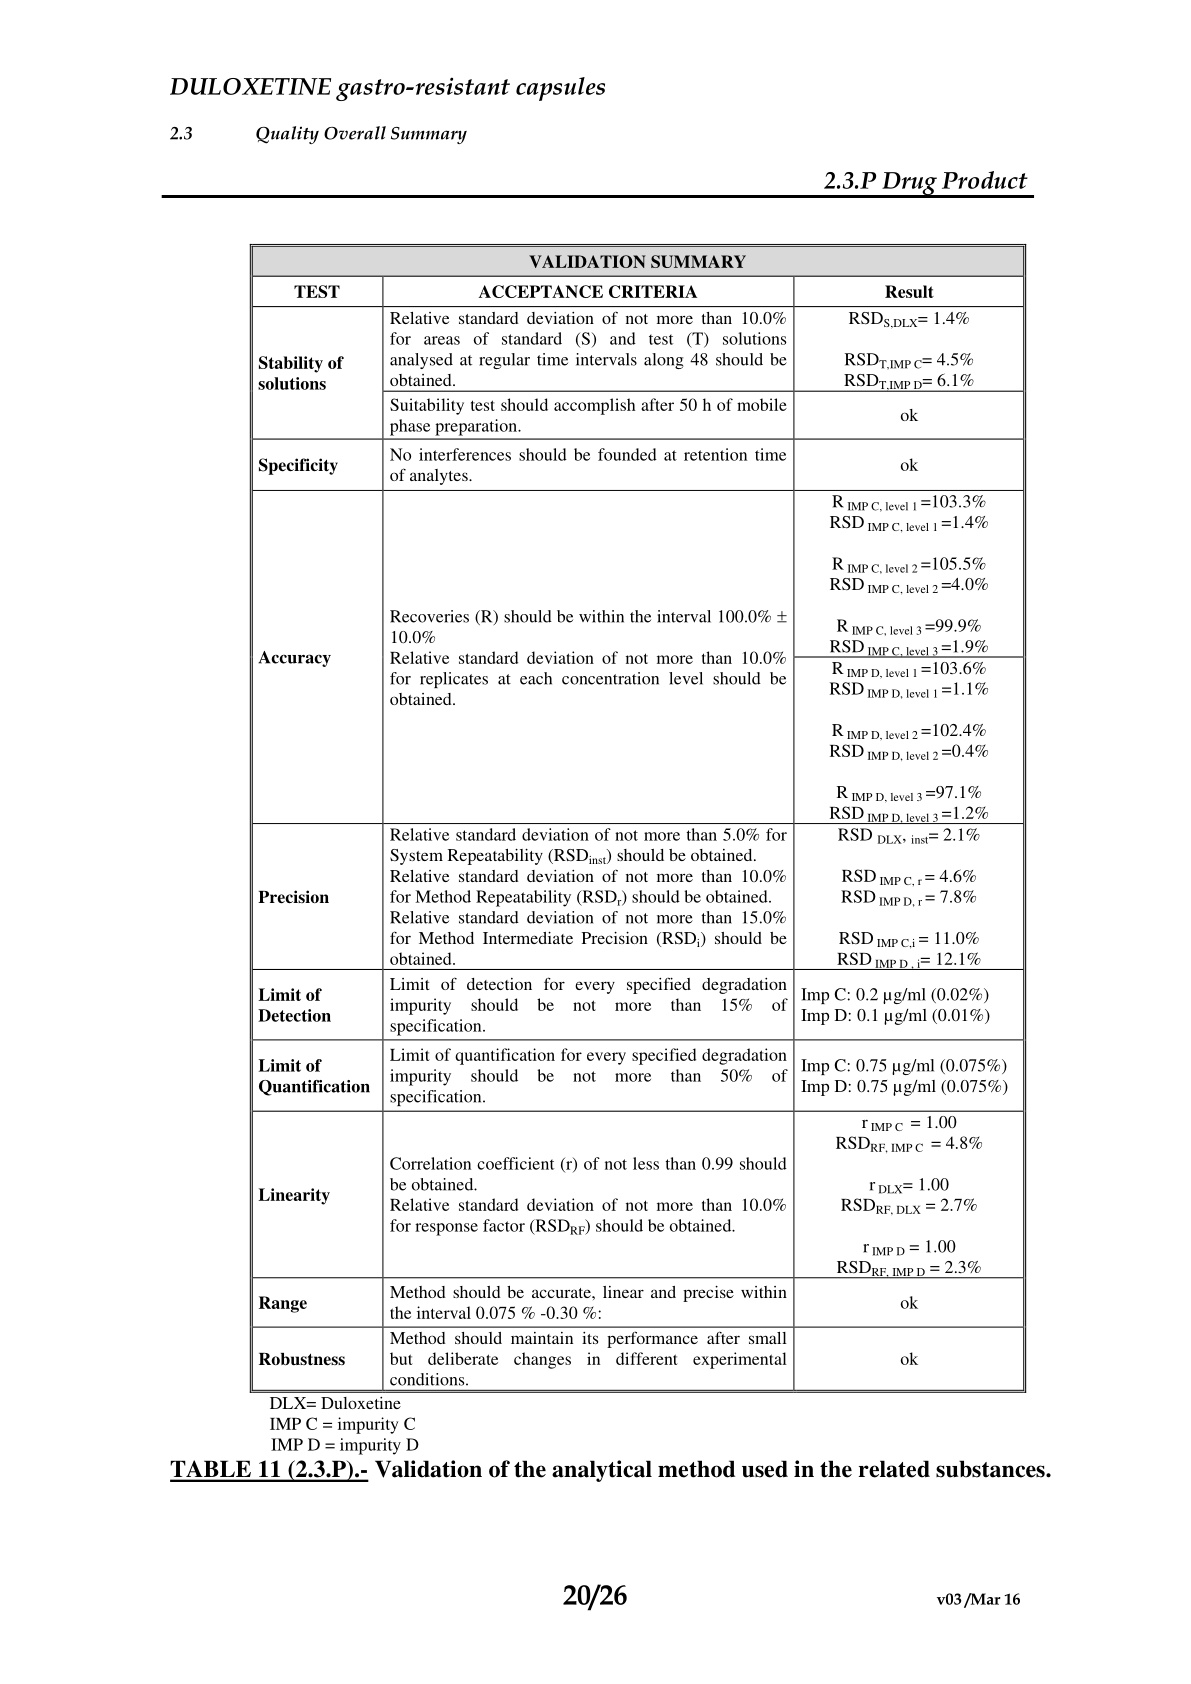merged_cells: (247, 241, 1029, 1394)
